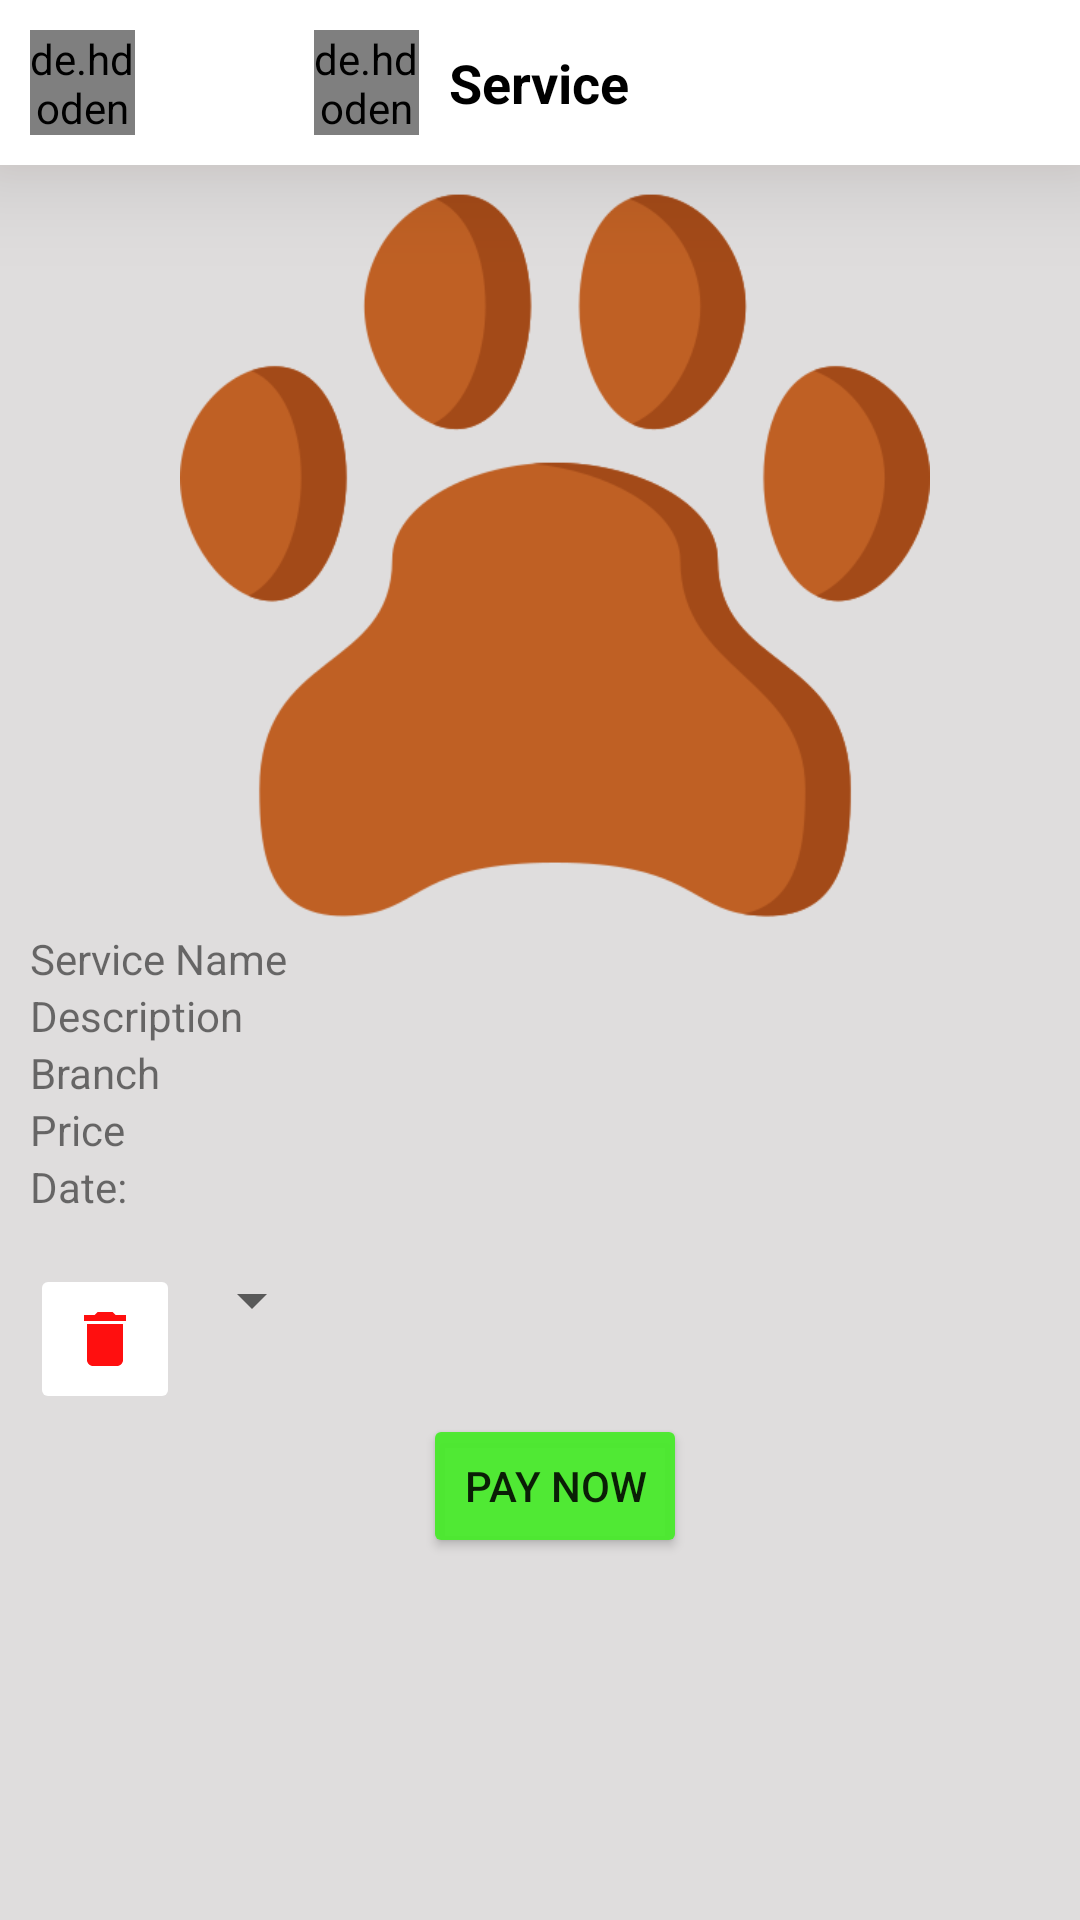

Icons on this 1080w x 1920h Android screen, each with the point to tap as (x,y):
delete: (105,1339)
